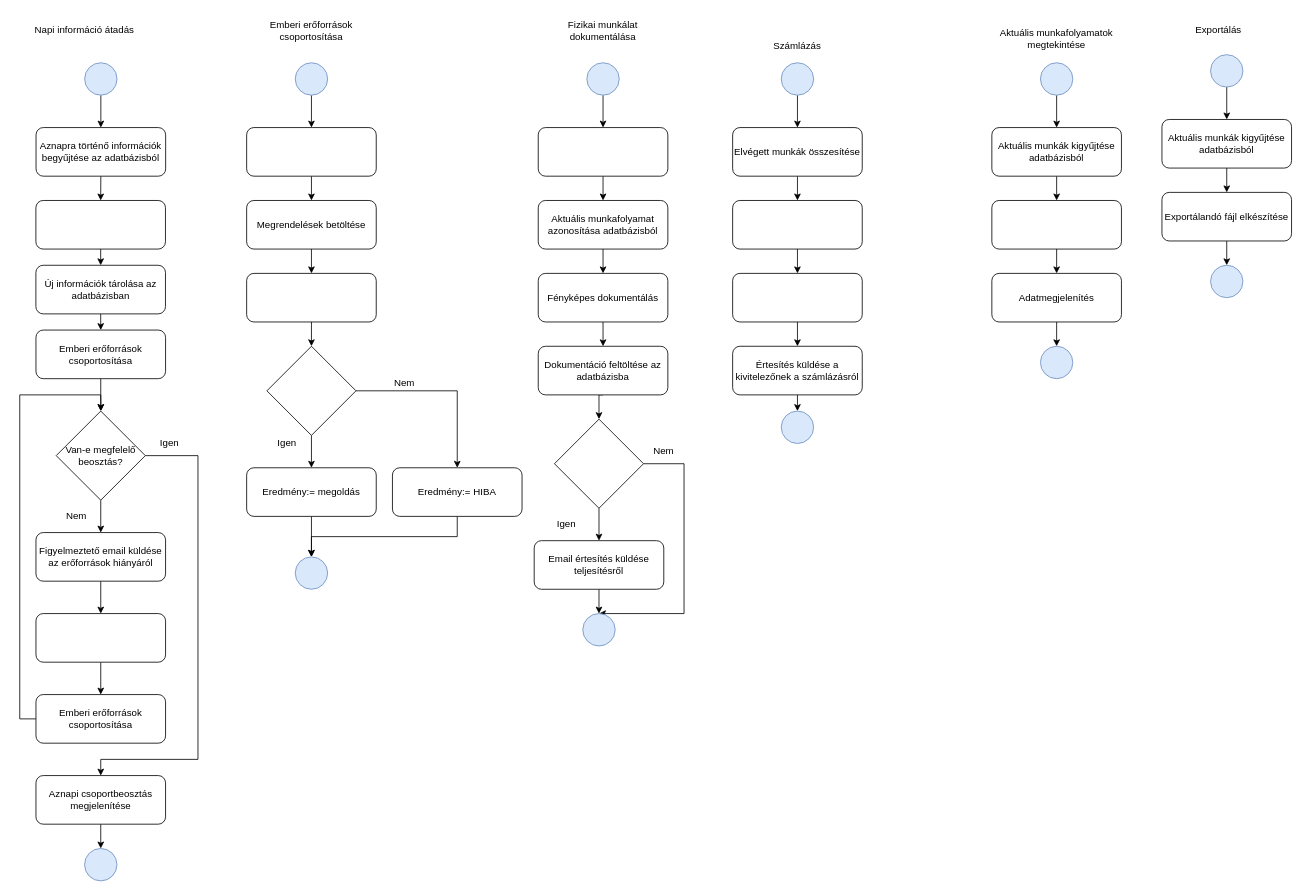
Image size: 1307x895. Some labels were removed from this diagram. Each missing label, with the centre of its shape:
"Adatfelvivő azonosítása" belongs at point 602,151.
"Emberi erőforrások betöltése" belongs at point 311,151.
"Emberi erőforrások és megrendelések összerendelése 72 órára előre" belongs at point 311,297.
"Erőforrások módosítása" belongs at point 100,637.
"Munkafolyamat vége?" belongs at point 599,463.
"Rendszerezés csoportonként" belongs at point 1056,224.
"Számlák elkészítése" belongs at point 797,224.
"Számlák elküldése a megrendelők felé" belongs at point 797,297.
"Összerendelhetőek?" belongs at point 311,390.
"Új információ felvétele a megrendelőtől" belongs at point 100,224.
